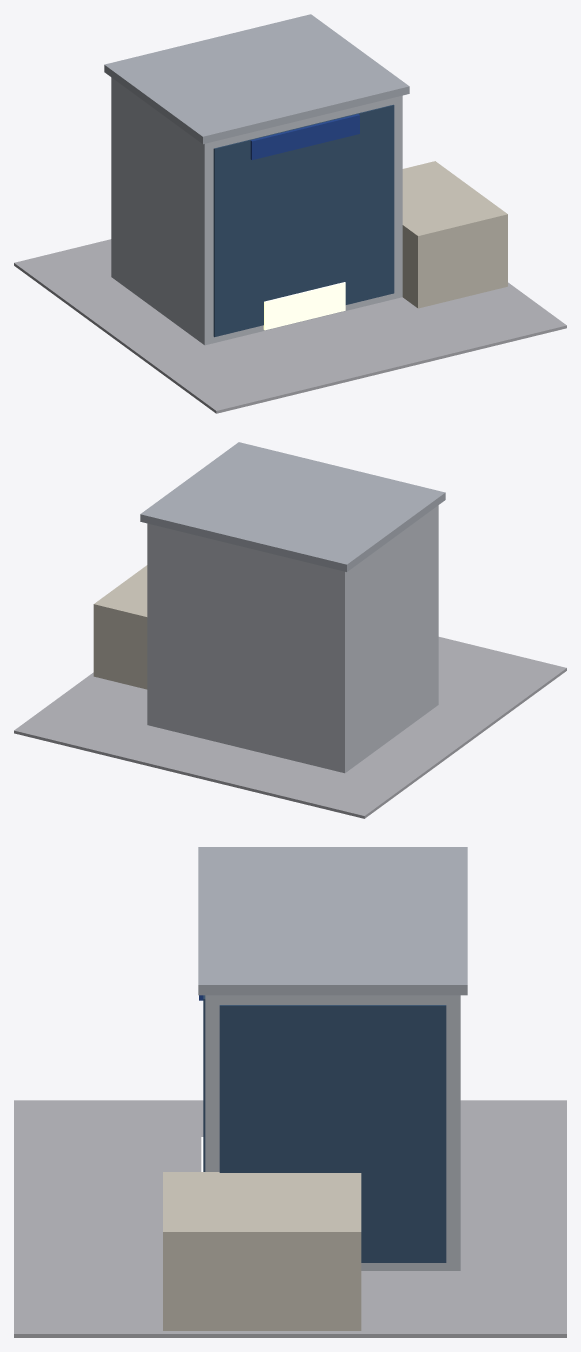
The model's file is hq_2_regional_office.glb.
3 renders of one model, top to bottom at view 1: azimuth 30°, elevation 25°; view 2: azimuth 150°, elevation 25°; view 3: azimuth 270°, elevation 25°, orthographic. The views are drawn at different scales.
Visible parts, largest first — view 1: Plaza, GlassFront, Block, Roof, Wing, LobbyGlow, SignBoard; view 2: Block, Plaza, Roof, Wing; view 3: Plaza, GlassSide, Roof, Wing, Block.
Part boxes in pixels (x1,y1,x2,y2): Plaza: (14,239,566,413); GlassFront: (213,104,394,337); Block: (111,77,402,345); Roof: (104,14,409,144); Wing: (402,161,507,308); LobbyGlow: (263,282,345,330); SignBoard: (250,114,359,160); Block: (147,505,438,773); Plaza: (14,637,566,818); Roof: (140,442,445,571); Wing: (93,565,147,689); Plaza: (14,1100,566,1337); GlassSide: (219,1005,446,1262); Roof: (198,847,467,995); Wing: (163,1172,361,1330); Block: (205,995,460,1270).
Bounding box in the file's own units: 3.9 × 2.28 × 3.9.
